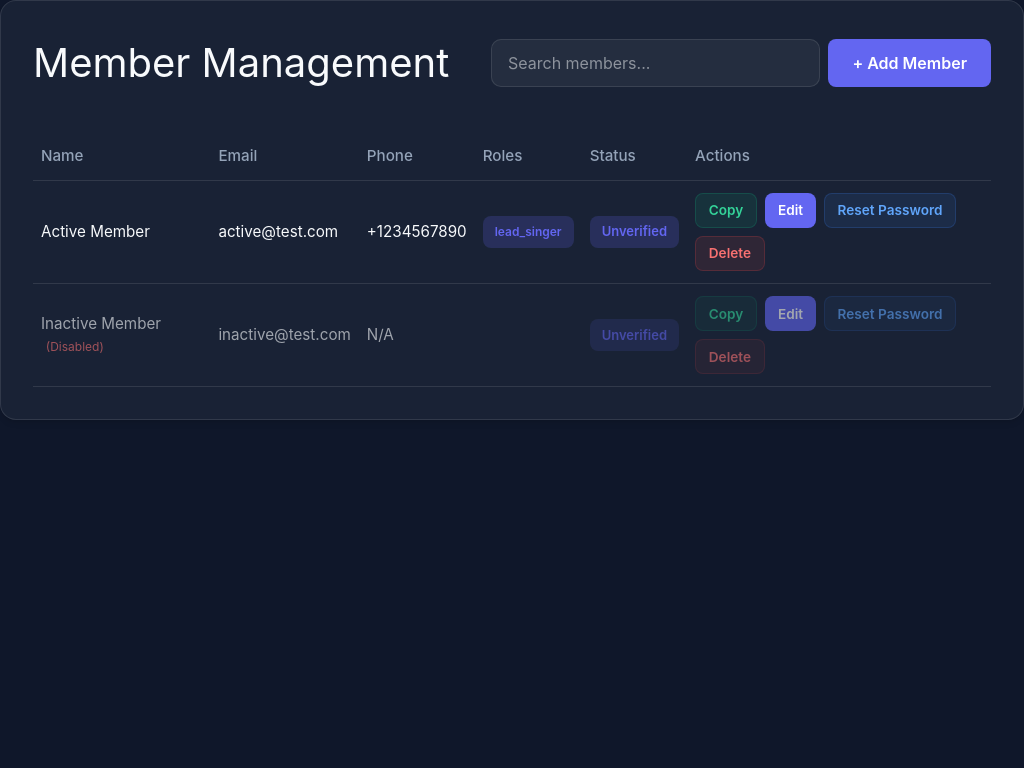
it: MembersManagement Page Tests › generates a secure password in the Add Member modal
This screenshot has width=1024, height=768.
Click the button "+ Add Member" at (910, 63), box top-left (828, 39), bottom-right (991, 87)
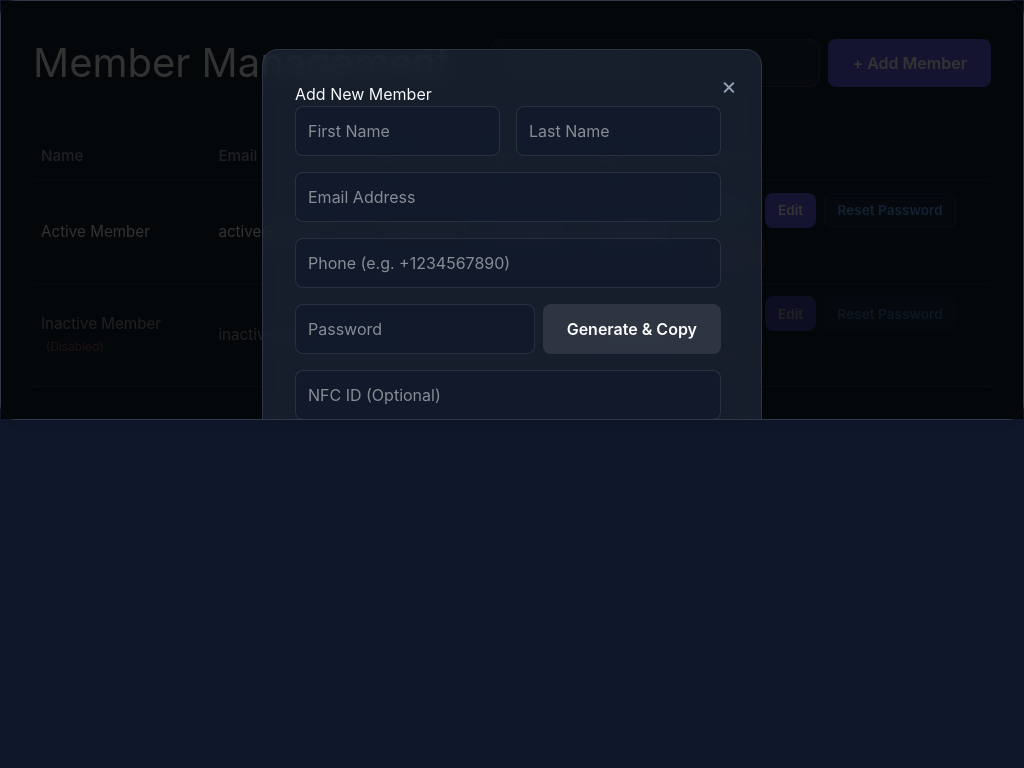
Check: the field with placeholder "Password" is empty, box top-left (295, 304), bottom-right (535, 354)
Click the button "Generate & Copy" at (632, 329), box top-left (543, 304), bottom-right (721, 354)
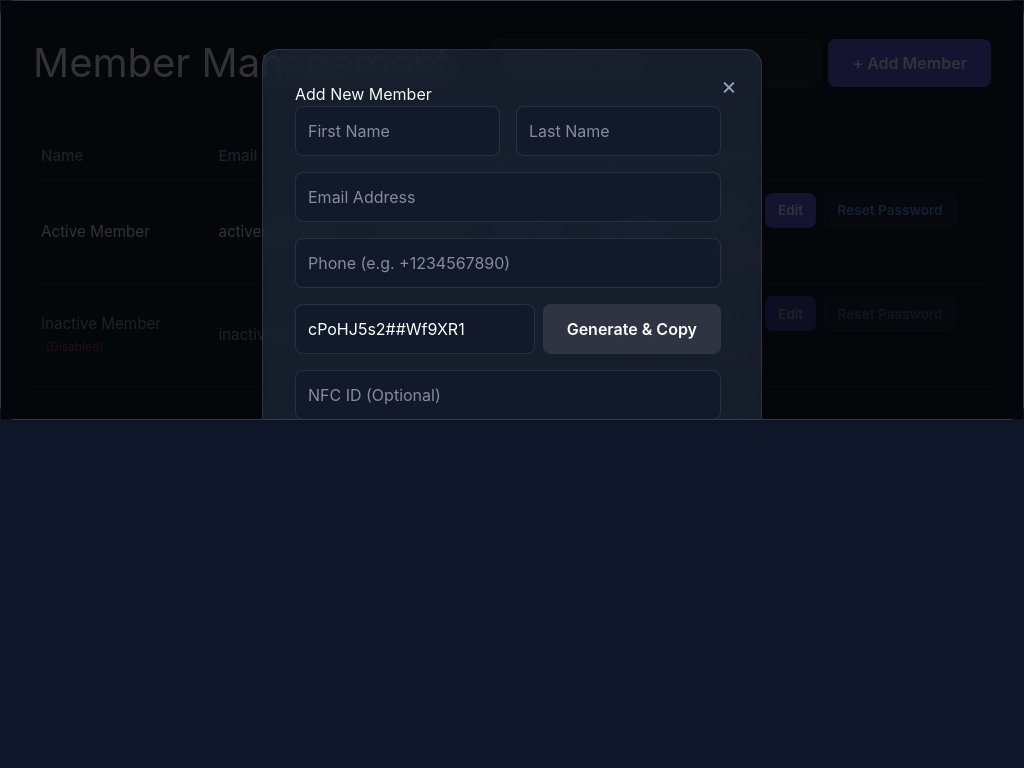
Check: the field with placeholder "Password" is not empty, box top-left (295, 304), bottom-right (535, 354)
